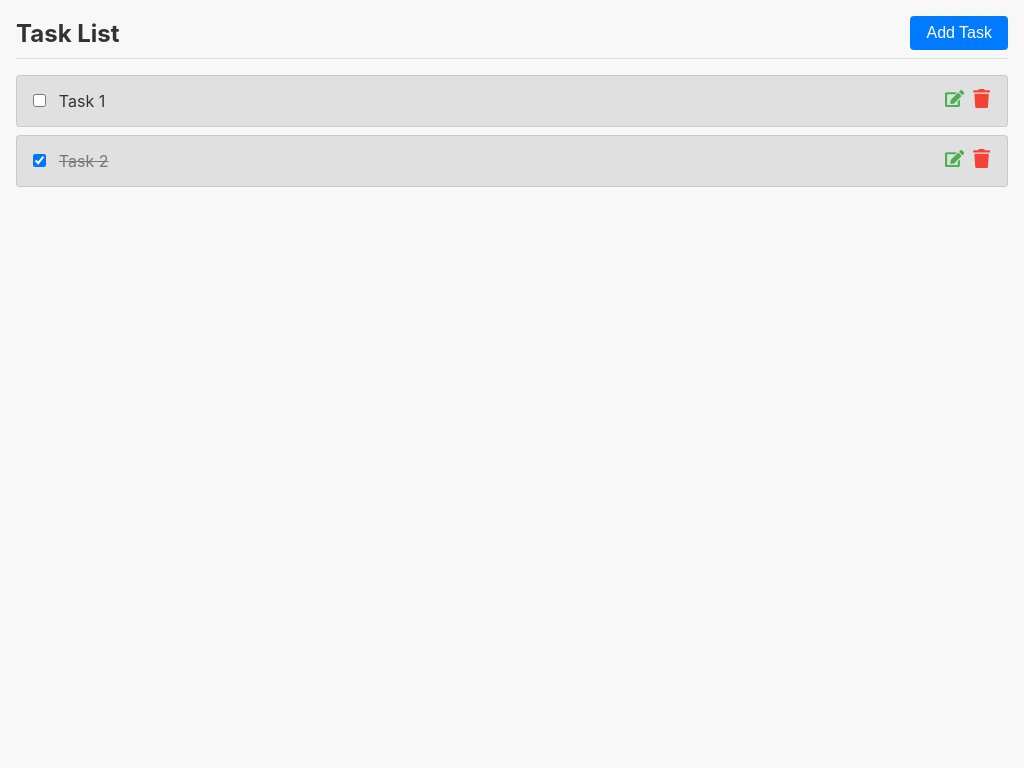
Test: TaskList Component › removes a task when the remove button is clicked
This screenshot has width=1024, height=768.
Step 1. Click the button with test id "task-delete-button-1" → (981, 101), box top-left (972, 89), bottom-right (991, 113)
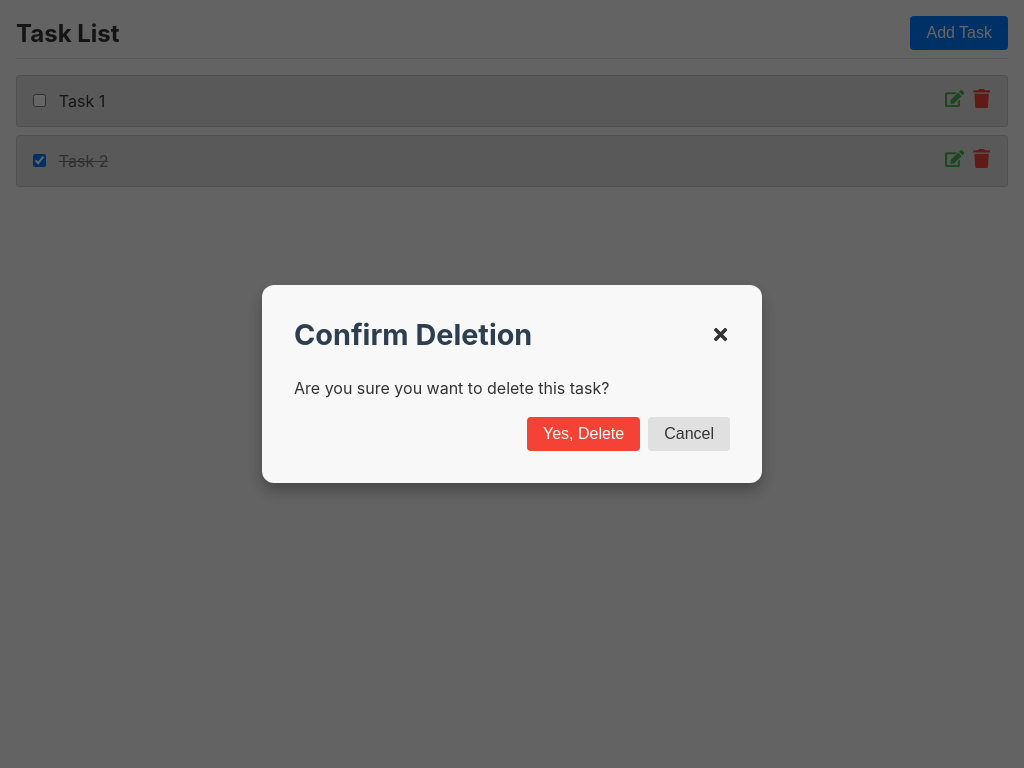
Step 2. Click the button with test id "confirm-delete-button" → (584, 434), box top-left (527, 417), bottom-right (640, 451)
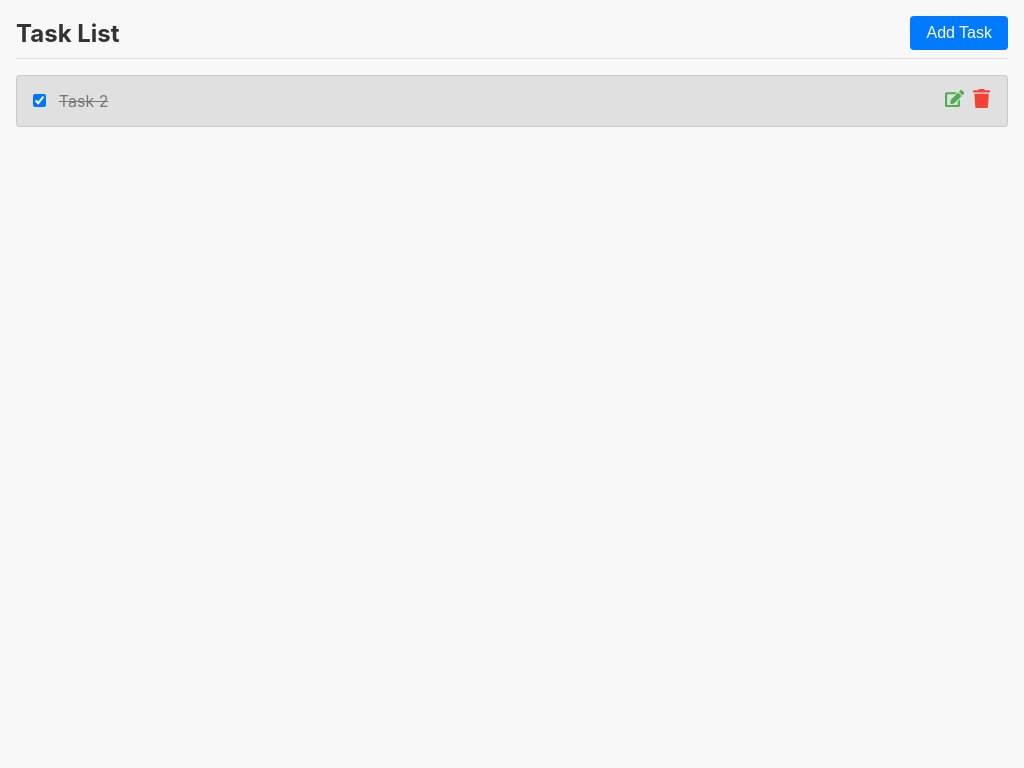
Expected: the list item with test id "task-list-item-1" is gone
